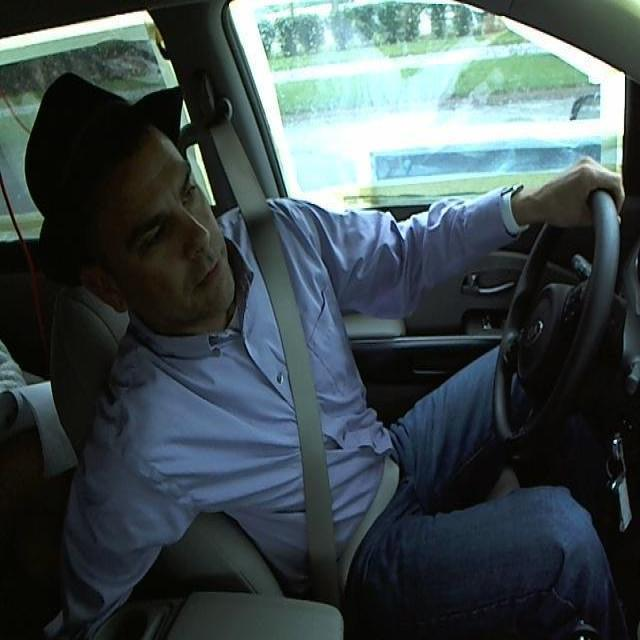seatbelt: (164, 65, 426, 610)
